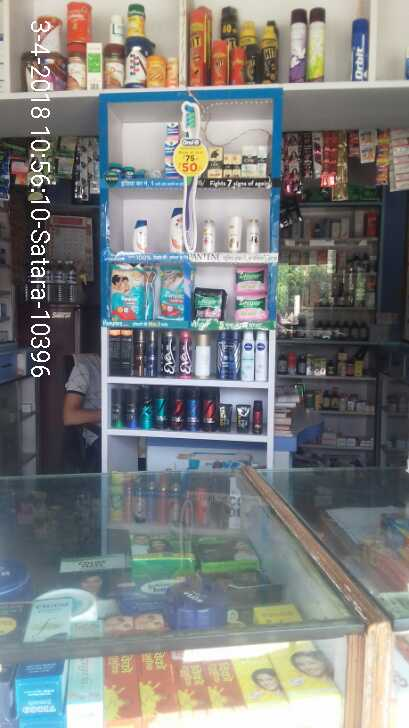vicks: (112, 119, 186, 181)
